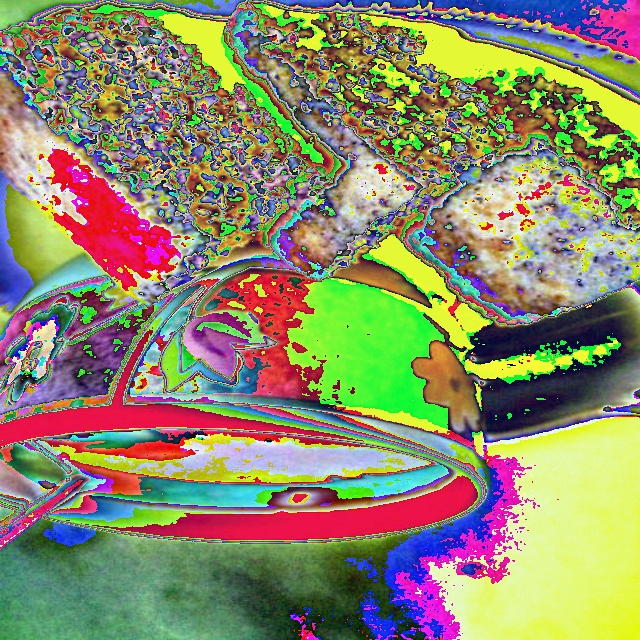background: (0, 2, 640, 329), (0, 83, 454, 511)
